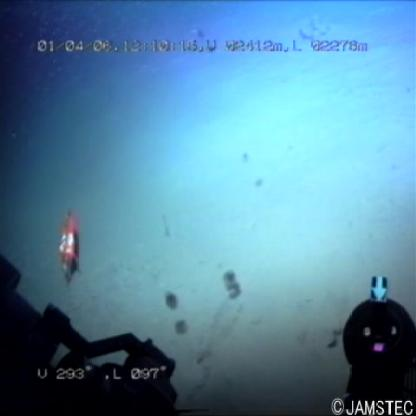Rov: (4, 252, 181, 416), (337, 271, 415, 415)
Rác: (52, 202, 89, 288)
